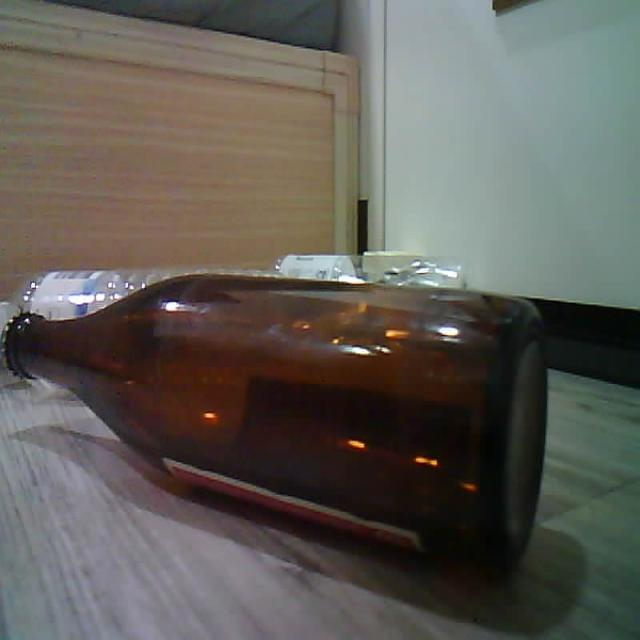bottle: (2, 274, 546, 565)
